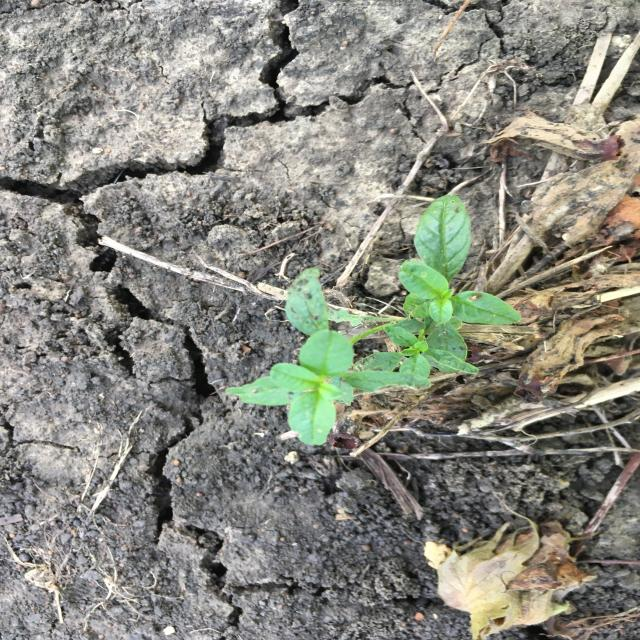Waterhemp: (223, 195, 525, 446)
